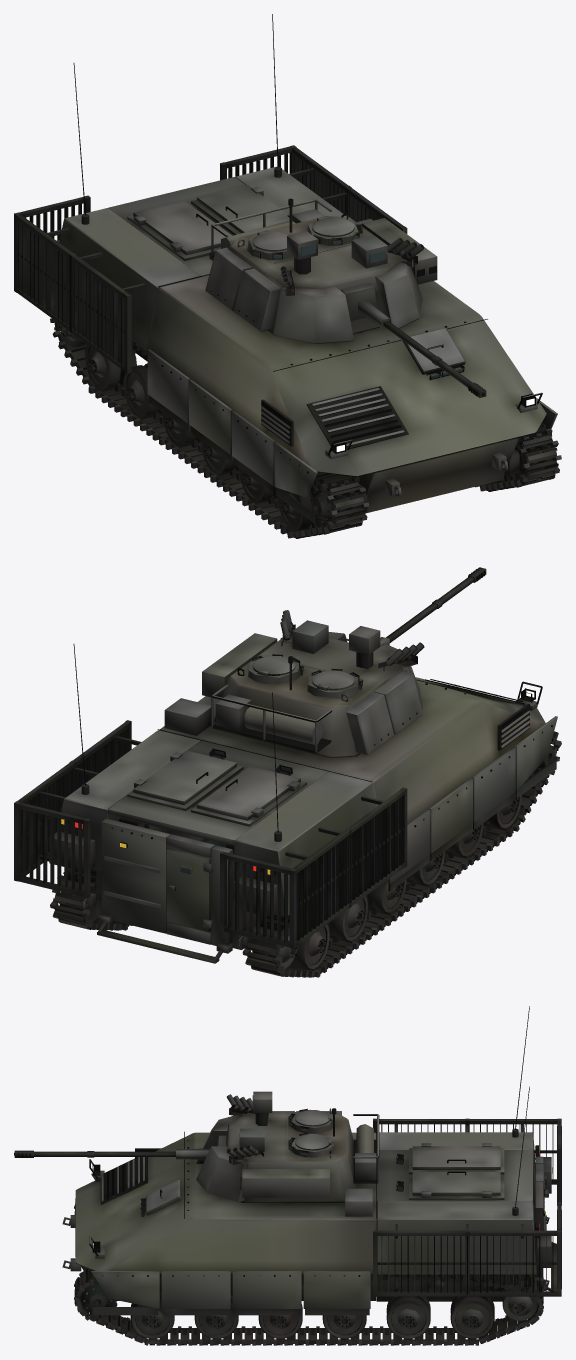
File: tracked-infantry-fighting-vehicle_card.glb
3 views of the same model, one above another, from view 1: azimuth 30°, elevation 25°; view 2: azimuth 150°, elevation 25°; view 3: azimuth 270°, elevation 25° (orthographic). The views are drawn at different scales.
Visible parts, largest first — view 1: body, turret_mesh, hatch_roof_R_mesh, hatch_roof_L_mesh, gun_mesh, hatch_driver_mesh, road_wheel_R5_mesh, road_wheel_R6_mesh, road_wheel_R1_mesh, sprocket_R_mesh, hatch_gunner_mesh; view 2: body, turret_mesh, ramp_mesh, ramp_door_mesh, hatch_roof_L_mesh, hatch_roof_R_mesh, road_wheel_R5_mesh, gun_mesh, road_wheel_R6_mesh, road_wheel_R4_mesh, hatch_commander_mesh, hatch_gunner_mesh (+3 smaller); view 3: body, turret_mesh, hatch_roof_R_mesh, hatch_roof_L_mesh, road_wheel_L5_mesh, road_wheel_L6_mesh, gun_mesh, road_wheel_L1_mesh, road_wheel_L2_mesh, road_wheel_L3_mesh, road_wheel_L4_mesh, ramp_mesh (+5 smaller).
Part boxes in pixels (x1,y1,x2,y2): body: [14, 14, 561, 538]; turret_mesh: [205, 198, 437, 344]; hatch_roof_R_mesh: [133, 200, 231, 255]; hatch_roof_L_mesh: [197, 185, 294, 233]; gun_mesh: [341, 282, 486, 397]; hatch_driver_mesh: [403, 328, 465, 374]; road_wheel_R5_mesh: [123, 363, 162, 418]; road_wheel_R6_mesh: [85, 344, 136, 390]; road_wheel_R1_mesh: [277, 482, 320, 531]; sprocket_R_mesh: [310, 479, 357, 525]; hatch_gunner_mesh: [312, 216, 354, 237]; body: [14, 638, 561, 977]; turret_mesh: [202, 610, 424, 757]; ramp_mesh: [98, 818, 232, 953]; ramp_door_mesh: [166, 848, 212, 931]; hatch_roof_L_mesh: [133, 750, 236, 804]; hatch_roof_R_mesh: [197, 766, 300, 820]; road_wheel_R5_mesh: [327, 896, 368, 941]; gun_mesh: [380, 567, 486, 645]; road_wheel_R6_mesh: [293, 924, 329, 969]; road_wheel_R4_mesh: [366, 879, 406, 913]; hatch_commander_mesh: [312, 670, 354, 690]; hatch_gunner_mesh: [252, 656, 295, 676]; body: [62, 1006, 561, 1345]; turret_mesh: [196, 1091, 379, 1202]; hatch_roof_R_mesh: [412, 1143, 500, 1169]; hatch_roof_L_mesh: [412, 1171, 500, 1197]; road_wheel_L5_mesh: [386, 1289, 430, 1338]; road_wheel_L6_mesh: [450, 1289, 494, 1338]; gun_mesh: [14, 1135, 226, 1162]; road_wheel_L1_mesh: [130, 1290, 174, 1338]; road_wheel_L2_mesh: [194, 1294, 238, 1338]; road_wheel_L3_mesh: [258, 1304, 302, 1338]; road_wheel_L4_mesh: [322, 1315, 366, 1338]; ramp_mesh: [535, 1156, 545, 1290].
Bounding box in the file's own units: 3.79 × 3.94 × 7.71.
Materials: 5 (1 with a texture image).
